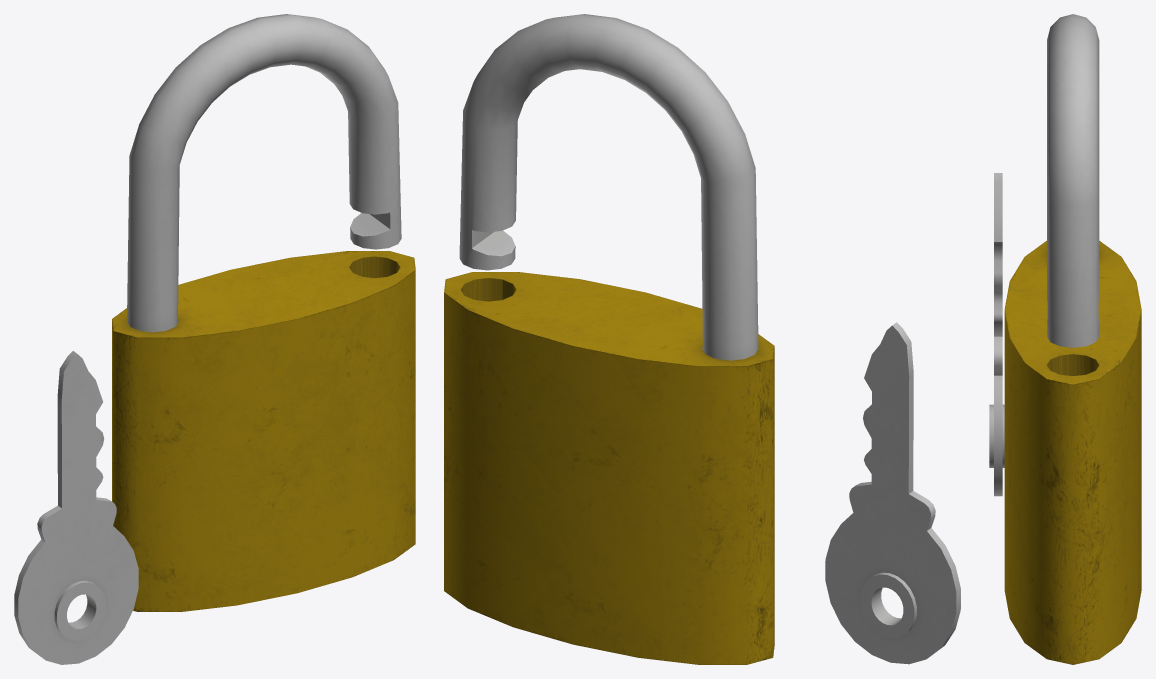
The model's file is Padlock.fbx.
The picture shows the model from 3 angles, left to right: view 1: azimuth 30°, elevation 25°; view 2: azimuth 150°, elevation 25°; view 3: azimuth 270°, elevation 25°; orthographic projection. The views are drawn at different scales.
Parts seen in each view (by area): view 1: Padlock_0, Padlock lock_1, Key_2; view 2: Padlock_0, Padlock lock_1, Key_2; view 3: Padlock_0, Padlock lock_1, Key_2.
Boxes of the visible parts, x1,y1,x2,y2 form: Padlock_0: (112,251,415,611); Padlock lock_1: (127,14,401,332); Key_2: (14,351,138,664); Padlock_0: (444,272,774,664); Padlock lock_1: (459,14,758,360); Key_2: (825,322,960,664); Padlock_0: (1004,241,1141,664); Padlock lock_1: (1047,14,1099,347); Key_2: (989,173,1004,496).
Size of the model in its own units: 411 by 507 by 122.
Materials: 1 (1 with a texture image).
